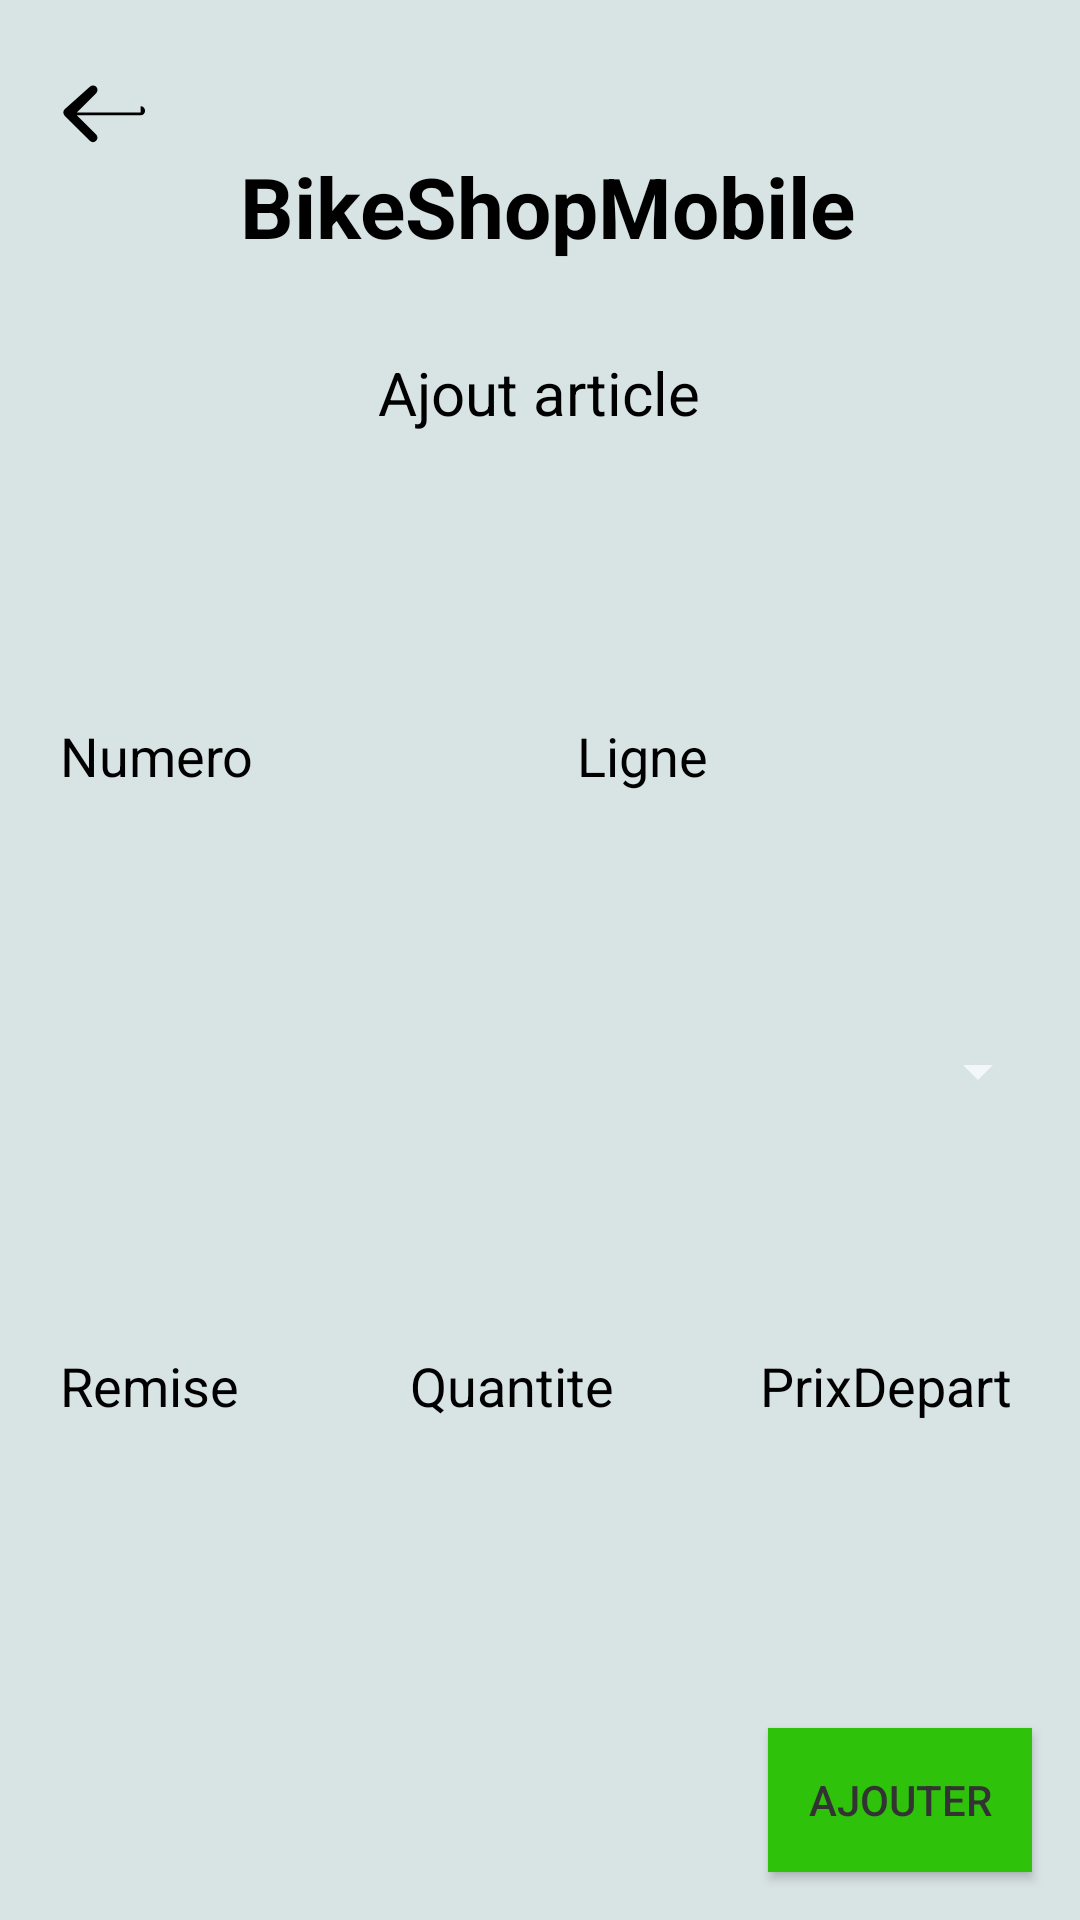

Icon bounding boxes for this 1080px x 1920px phone screenshot, format [x1=x1, y1=y1, x2=x2, y2=y2]:
back: [x1=63, y1=85, x2=145, y2=143]
